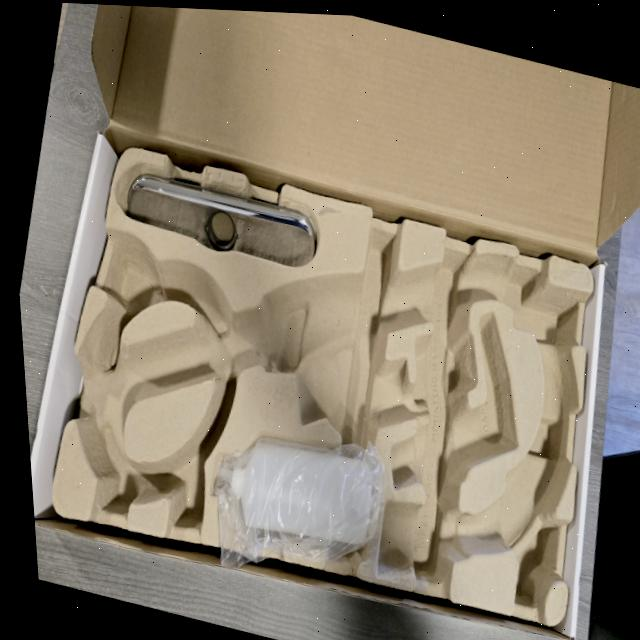1m: (69, 251, 576, 568)
2m: (391, 321, 513, 489)
3: (214, 435, 371, 547)
4: (123, 175, 314, 264)
5m: (108, 238, 160, 309)
6m: (89, 427, 133, 510)
7m: (168, 443, 202, 527)
